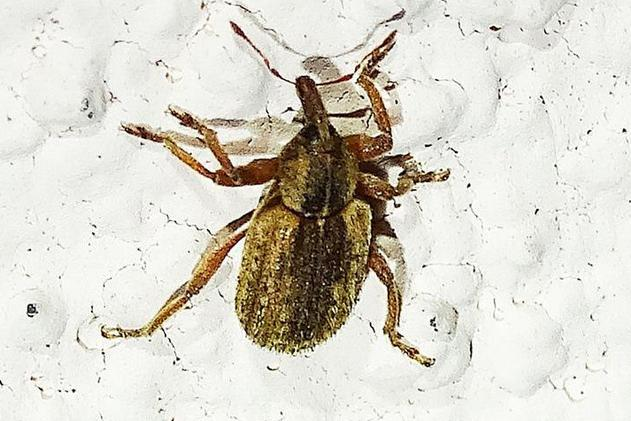weevils: (66, 6, 491, 394)
